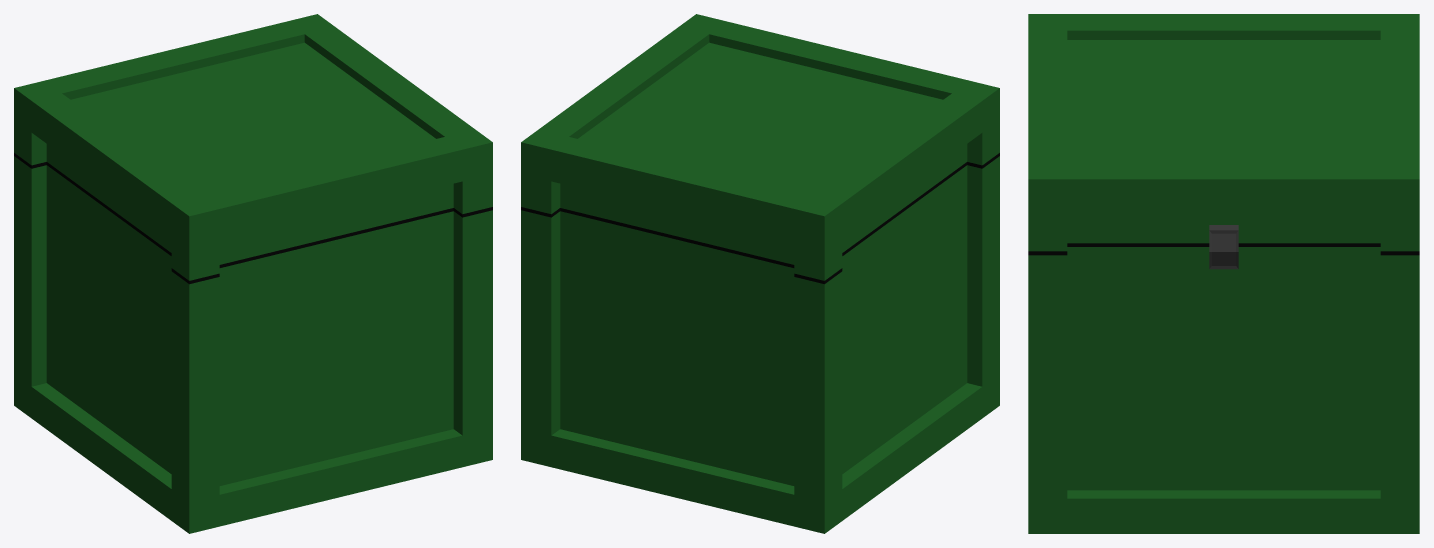
File: ItemBox_Green.fbx
The picture shows the model from 3 angles, left to right: view 1: azimuth 30°, elevation 25°; view 2: azimuth 150°, elevation 25°; view 3: azimuth 270°, elevation 25°; orthographic projection. The views are drawn at different scales.
Parts seen in each view (by area): view 1: Cube; view 2: Cube; view 3: Cube, Cube.001.
Boxes of the visible parts, x1,y1,x2,y2 form: Cube: (14,14,492,533); Cube: (521,14,999,533); Cube: (1028,14,1419,533); Cube.001: (1209,225,1238,269).
Bounding box in the file's own units: 200 × 200 × 200.
